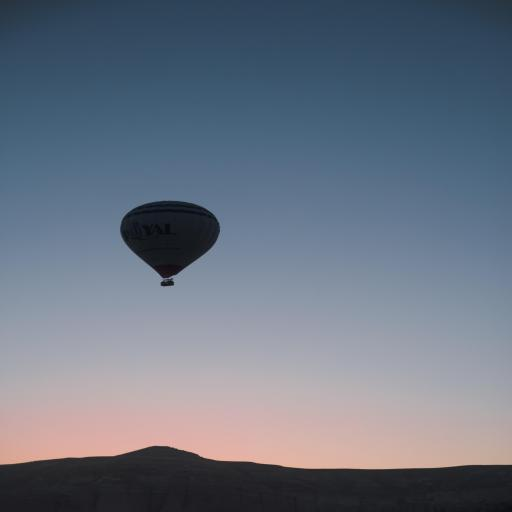hot air ballon: (120, 200, 220, 286)
